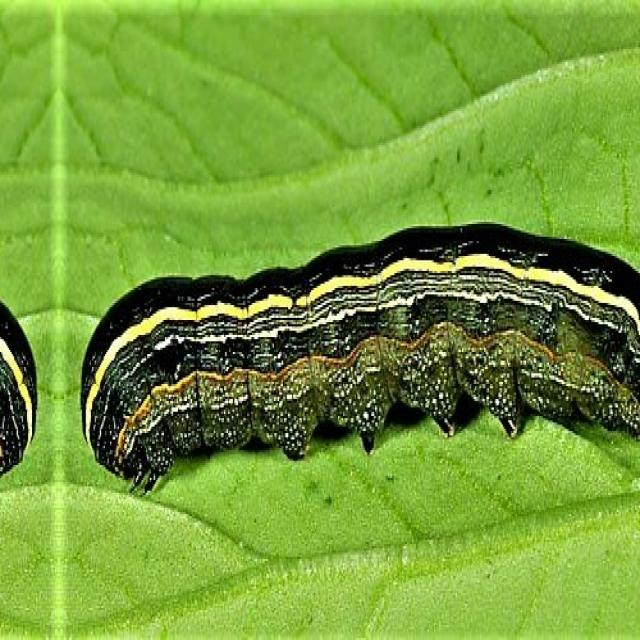Armyworm: (82, 213, 640, 582), (1, 249, 41, 490)
